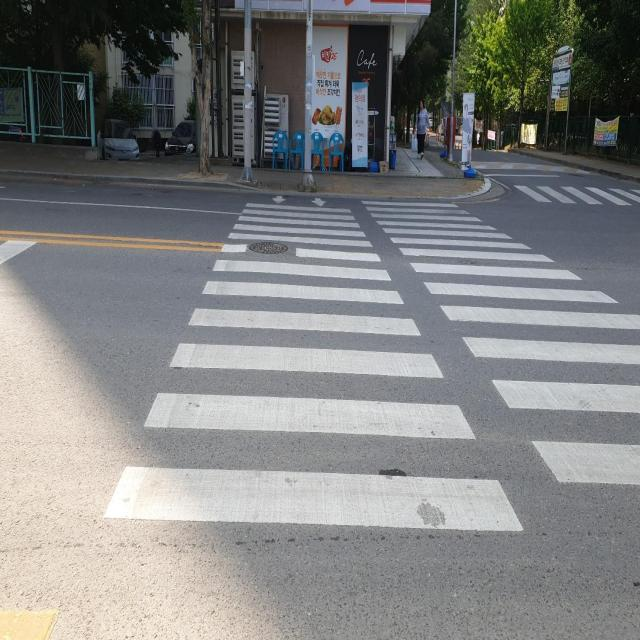횡단보도: (103, 196, 640, 534), (514, 184, 640, 202)
